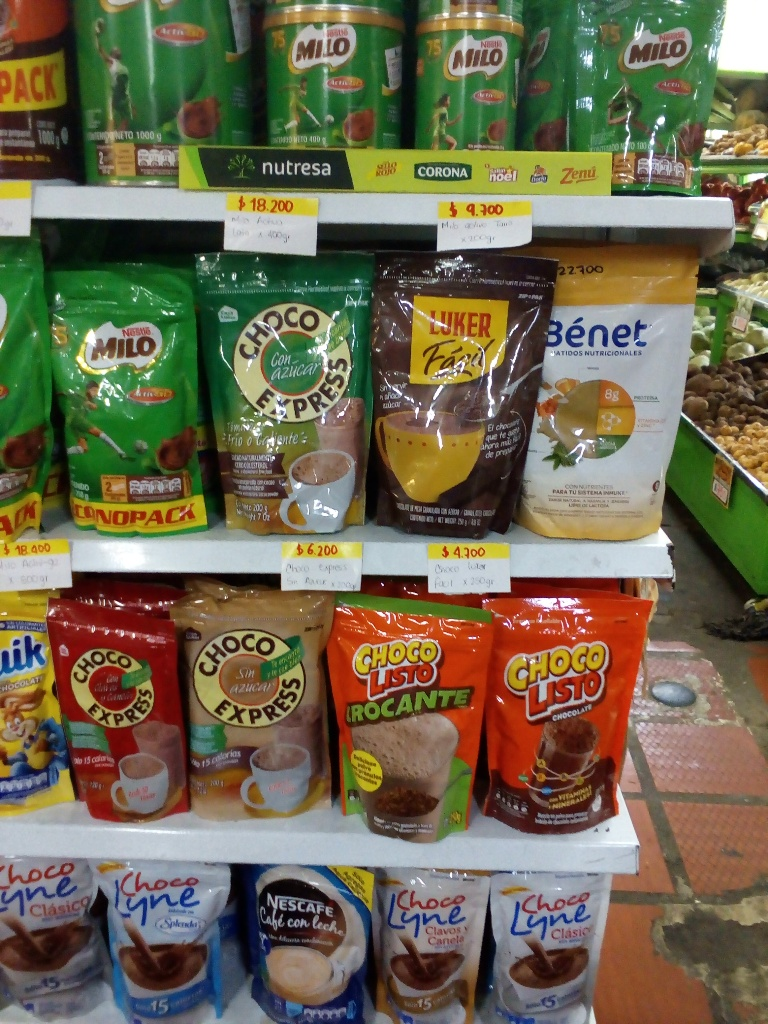COL0170103TRR00100: (1, 2, 80, 179)
COL0170203DYP10000: (576, 0, 733, 191)
COL0170203LAT20000: (412, 5, 530, 156)
COL0170203LAT40000: (264, 6, 413, 148)
COL0170303DYP20000: (0, 593, 73, 823)
